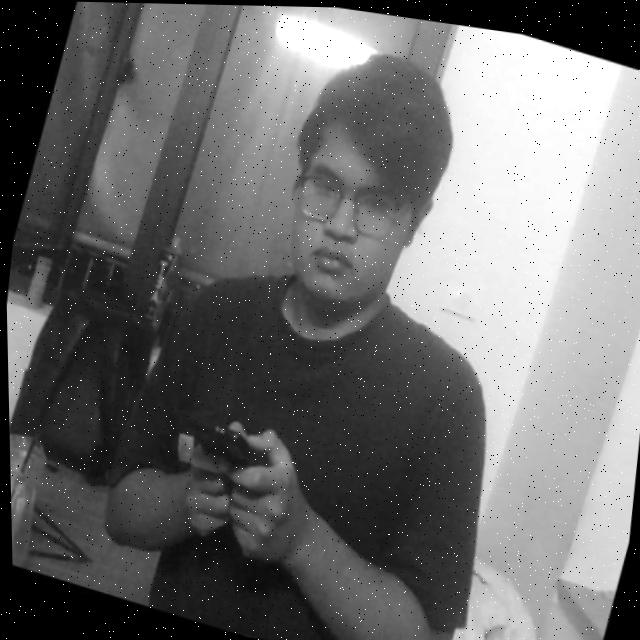phone: (175, 409, 284, 501)
